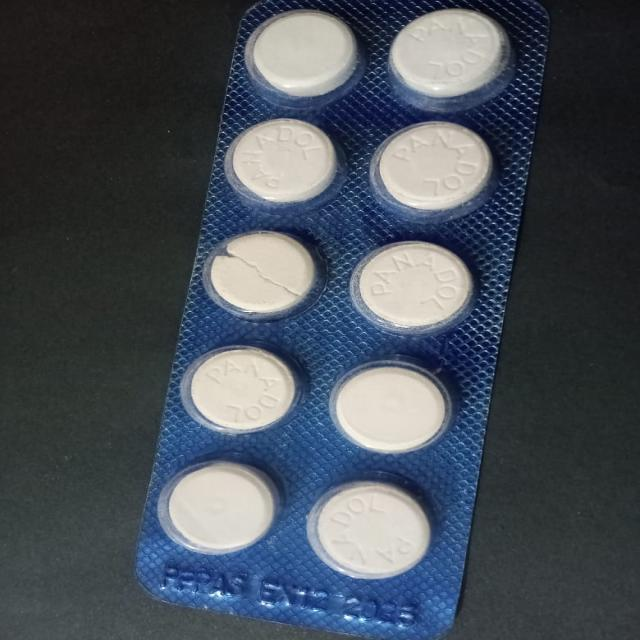defect: (199, 226, 332, 324)
